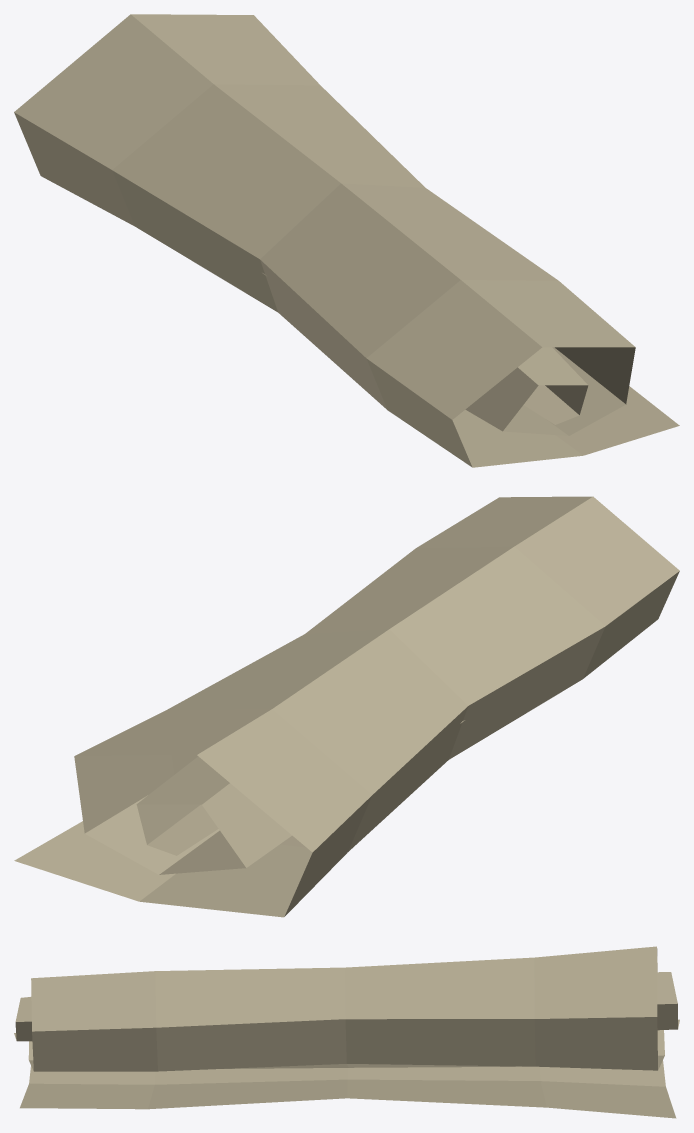
File: scroll_big.gltf
3 views of the same model, one above another, from view 1: azimuth 30°, elevation 25°; view 2: azimuth 150°, elevation 25°; view 3: azimuth 270°, elevation 25° (orthographic). The views are drawn at different scales.
Parts seen in each view (by area): view 1: Scroll_Big; view 2: Scroll_Big; view 3: Scroll_Big.
Boxes of the visible parts, <box> form: Scroll_Big: <box>14,14,679,467</box>; Scroll_Big: <box>14,496,679,917</box>; Scroll_Big: <box>14,946,679,1118</box>.
Size of the model in its own units: 0.1905 by 0.0987 by 0.4938.
Materials: 1 (1 with a texture image).
